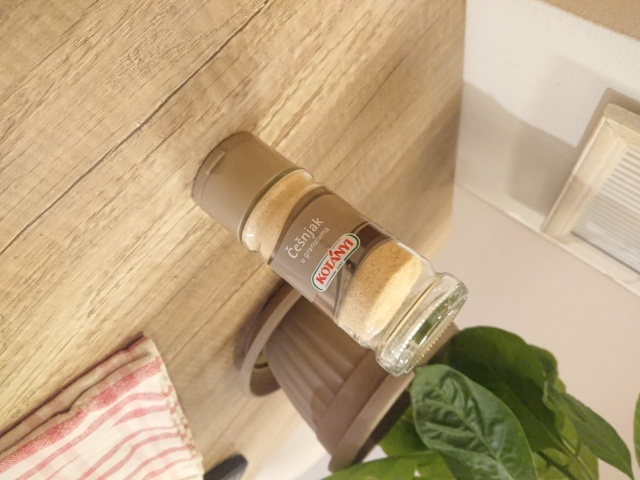Kotanyi Garlic Granules 70g: (187, 128, 472, 380)
